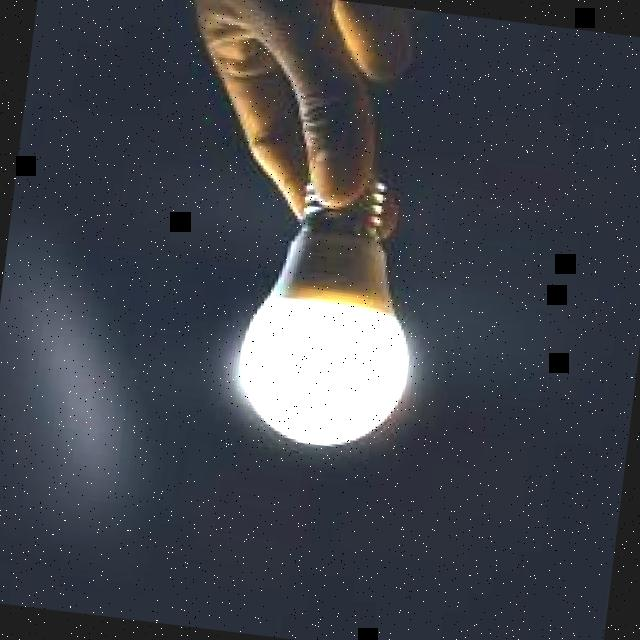light_bulb: (215, 140, 445, 470)
